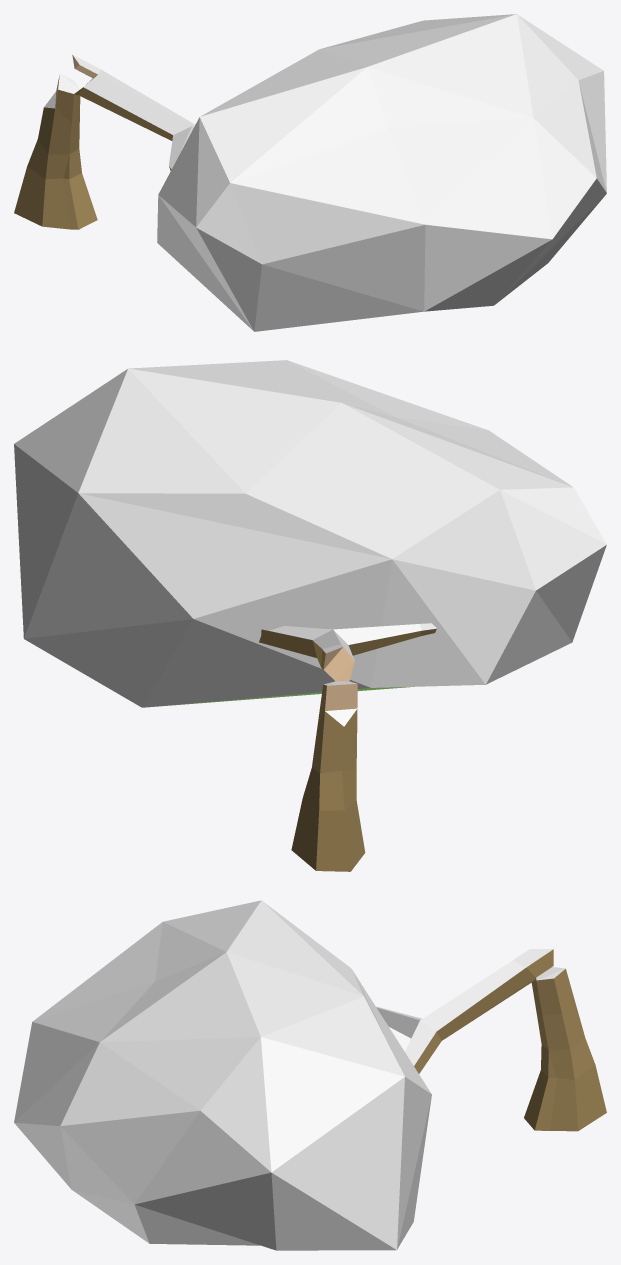
The model's file is Oak_Tree_crk_l_Snow_BT_03.fbx.
3 renders of one model, top to bottom at view 1: azimuth 30°, elevation 25°; view 2: azimuth 150°, elevation 25°; view 3: azimuth 270°, elevation 25°, orthographic. The views are drawn at different scales.
Parts seen in each view (by area): view 1: Oak_Tree_crk_l_Snow_BT_03; view 2: Oak_Tree_crk_l_Snow_BT_03; view 3: Oak_Tree_crk_l_Snow_BT_03.
Boxes of the visible parts, left/top/right/bottom form: Oak_Tree_crk_l_Snow_BT_03: left=14, top=14, right=606, bottom=331; Oak_Tree_crk_l_Snow_BT_03: left=14, top=360, right=606, bottom=871; Oak_Tree_crk_l_Snow_BT_03: left=14, top=900, right=606, bottom=1250.
Bounding box in the file's own units: 840 × 404 × 892.
